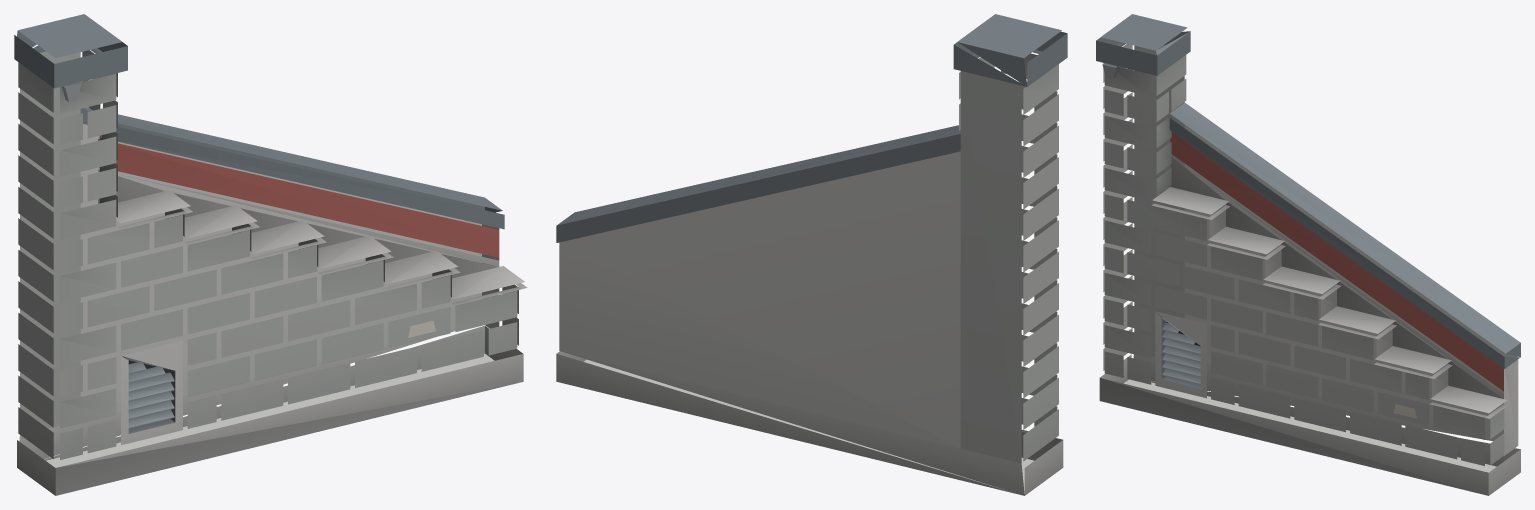
Rendered from gable.lod.glb.
3 renders of one model, left to right at view 1: azimuth 30°, elevation 25°; view 2: azimuth 150°, elevation 25°; view 3: azimuth 330°, elevation 25°, orthographic. The views are drawn at different scales.
Parts seen in each view (by area): view 1: gable.001; view 2: gable.001; view 3: gable.001.
Boxes of the visible parts, x1=… form: gable.001: x1=14, y1=14, x2=527, y2=495; gable.001: x1=556, y1=14, x2=1067, y2=495; gable.001: x1=1096, y1=14, x2=1520, y2=495.
Bounding box in the file's own units: 10.62 × 9.38 × 1.63.
